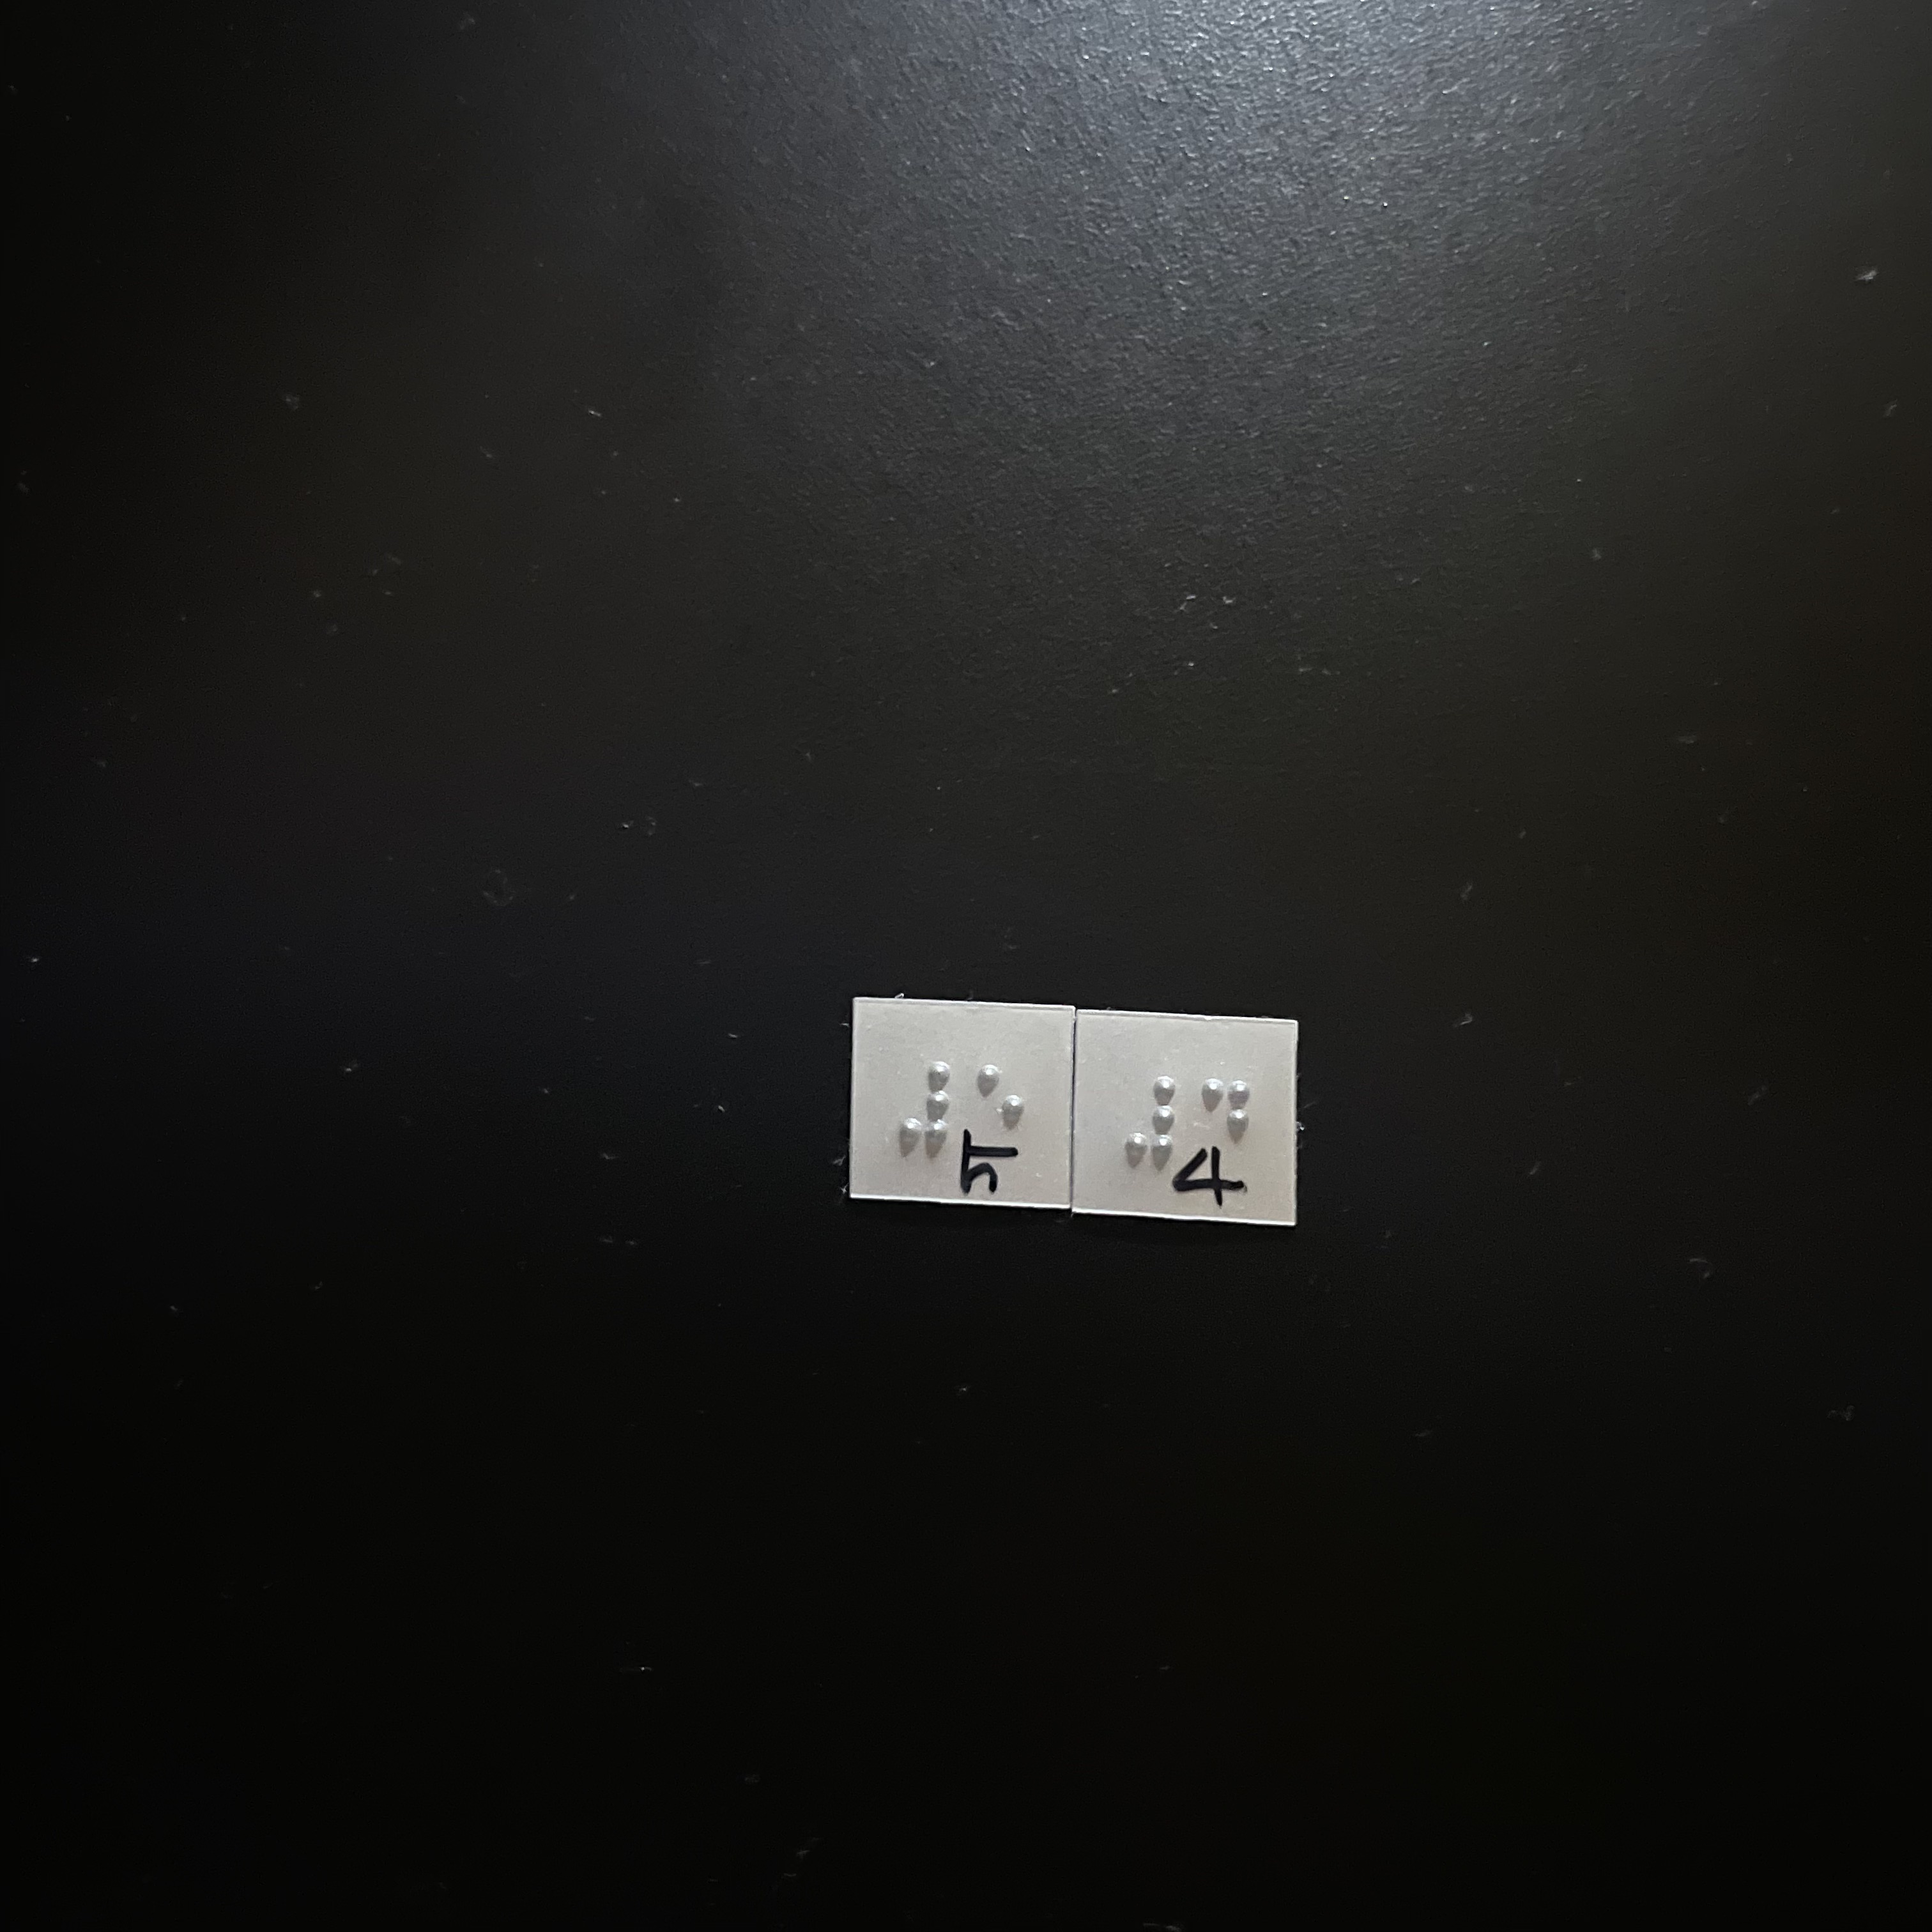#: (893, 1057, 956, 1170), (1122, 1066, 1183, 1174)
d: (1188, 1066, 1256, 1181)
e: (967, 1059, 1040, 1176)
